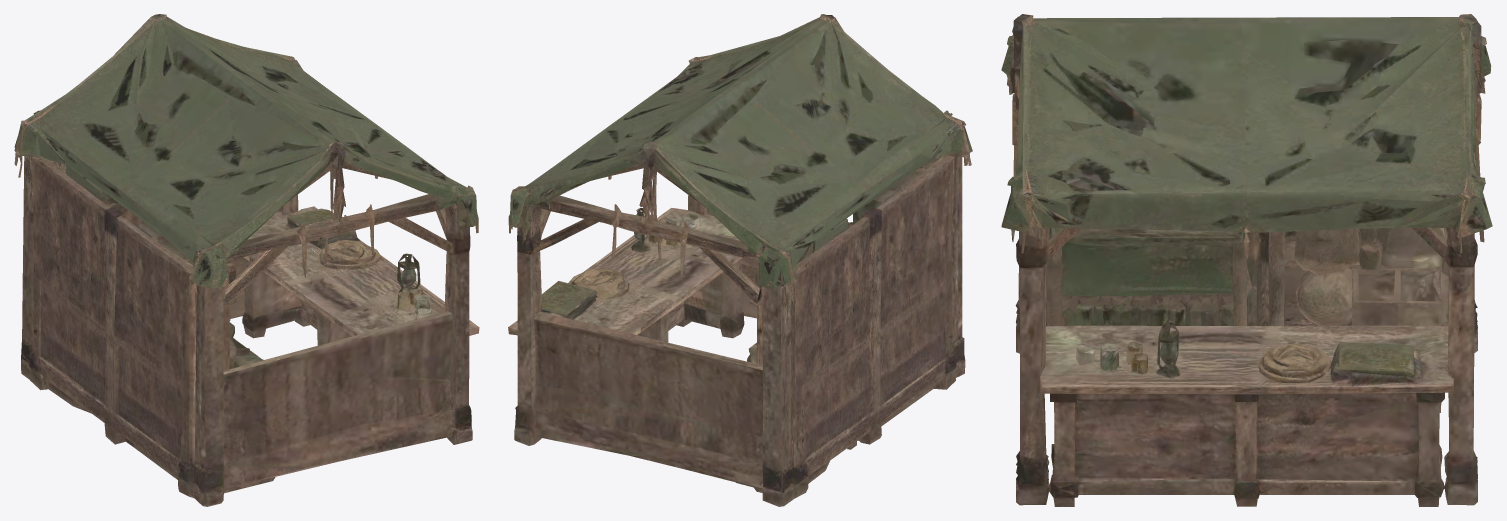
File: trader_stall.9bac4a88cc.glb
3 renders of one model, left to right at view 1: azimuth 30°, elevation 25°; view 2: azimuth 150°, elevation 25°; view 3: azimuth 270°, elevation 25°, orthographic. The views are drawn at different scales.
Parts seen in each view (by area): view 1: trader_stall; view 2: trader_stall; view 3: trader_stall.
Boxes of the visible parts, x1,y1,x2,y2 form: trader_stall: (14, 14, 479, 506); trader_stall: (508, 14, 972, 506); trader_stall: (1001, 14, 1492, 506).
Size of the model in its own units: 2.42 by 2.59 by 2.8.
1 material, 1 textured.
